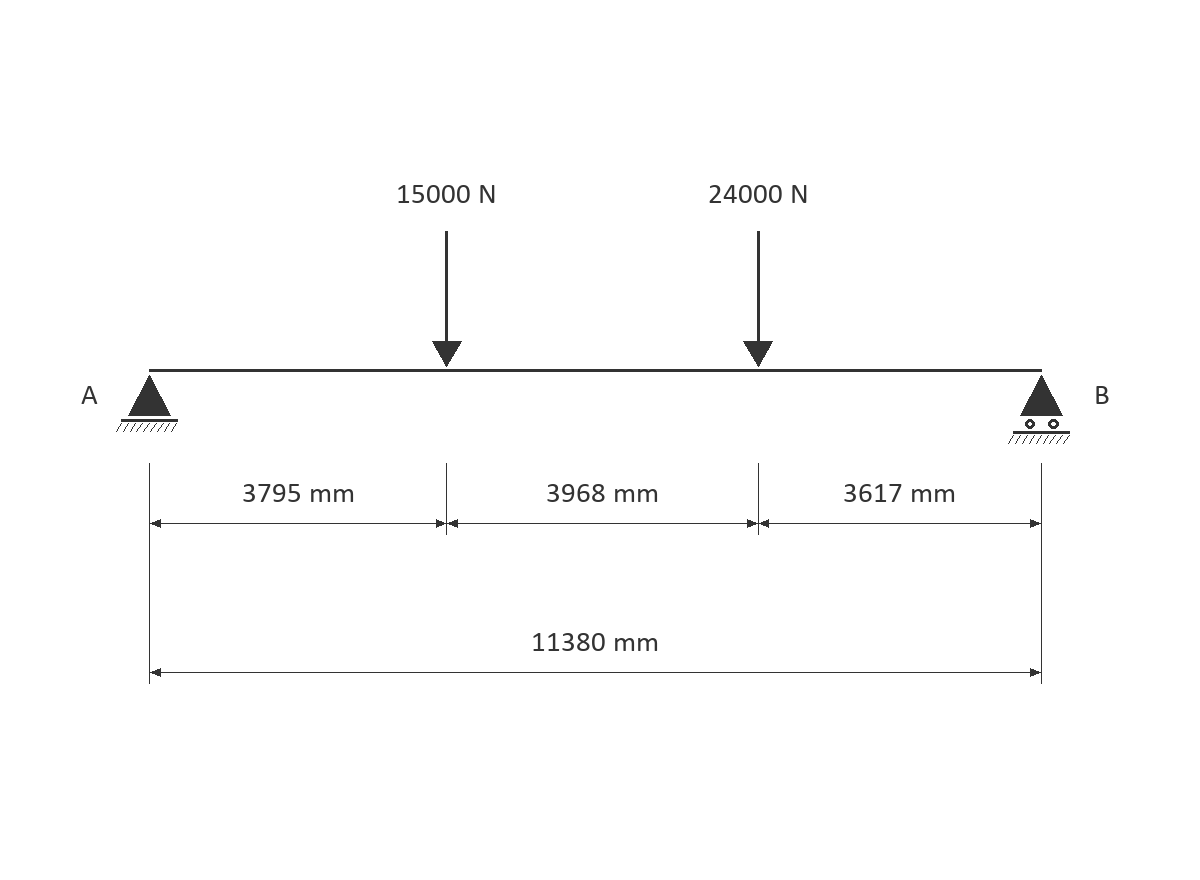pin_support: (116, 375, 178, 432)
point_load: (432, 231, 462, 367), (743, 231, 773, 367)
roller_support: (1008, 375, 1070, 444)
